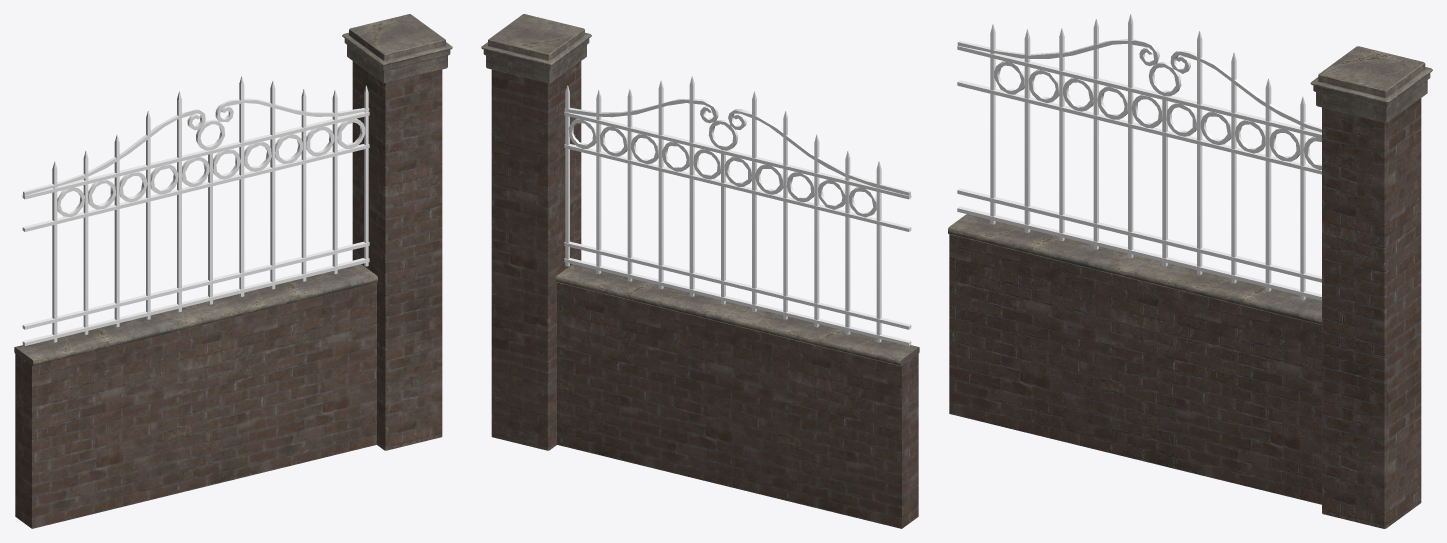
The model's file is graveyardfence.static.glb.
3 renders of one model, left to right at view 1: azimuth 30°, elevation 25°; view 2: azimuth 150°, elevation 25°; view 3: azimuth 330°, elevation 25°, orthographic. The views are drawn at different scales.
Visible parts, largest first — view 1: graveyard_fence_LOD0, graveyard_fence_pillar_LOD0; view 2: graveyard_fence_LOD0, graveyard_fence_pillar_LOD0; view 3: graveyard_fence_LOD0, graveyard_fence_pillar_LOD0.
Part boxes in pixels (x1,y1,x2,y2): graveyard_fence_LOD0: [14, 76, 377, 528]; graveyard_fence_pillar_LOD0: [342, 14, 452, 450]; graveyard_fence_LOD0: [556, 76, 919, 528]; graveyard_fence_pillar_LOD0: [481, 14, 591, 450]; graveyard_fence_LOD0: [948, 14, 1321, 504]; graveyard_fence_pillar_LOD0: [1310, 46, 1432, 528].
Bounding box in the file's own units: 3.29 × 3.05 × 0.5707.
3 materials, 2 textured.
